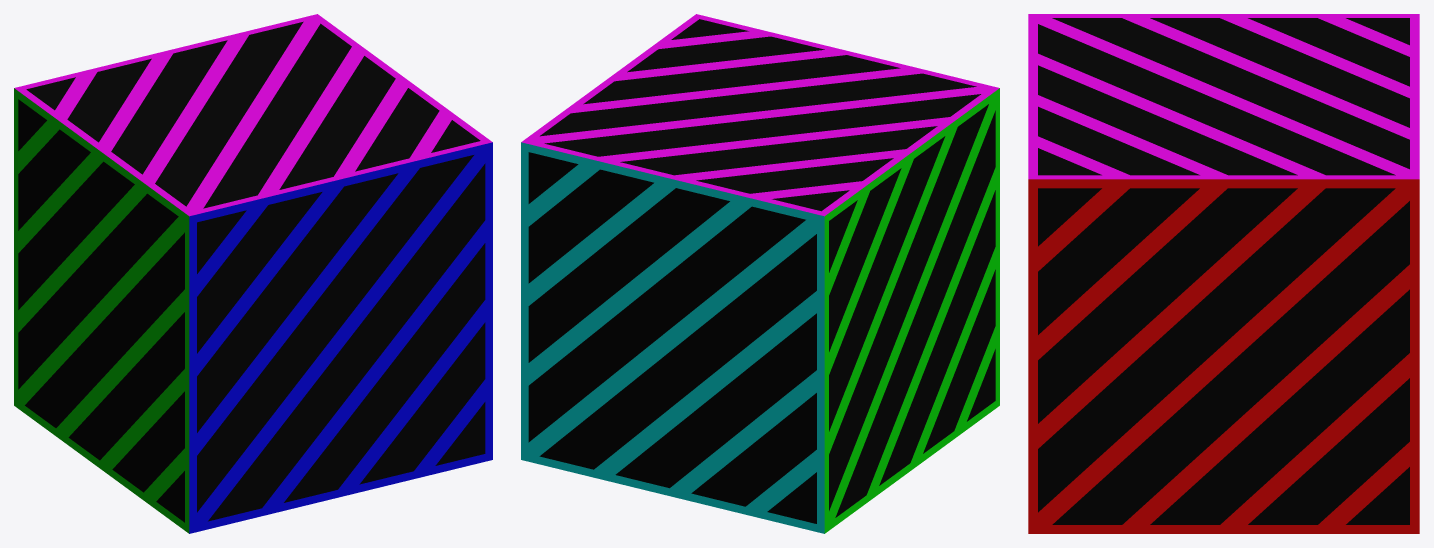
File: cutcube1.gltf
The picture shows the model from 3 angles, left to right: view 1: azimuth 30°, elevation 25°; view 2: azimuth 150°, elevation 25°; view 3: azimuth 270°, elevation 25°; orthographic projection. The views are drawn at different scales.
Parts seen in each view (by area): view 1: node-0; view 2: node-0; view 3: node-0.
Part boxes in pixels (<box>): node-0: <box>14,14,492,533</box>; node-0: <box>521,14,999,533</box>; node-0: <box>1028,14,1419,533</box>.
Bounding box in the file's own units: 2 × 2 × 2.
